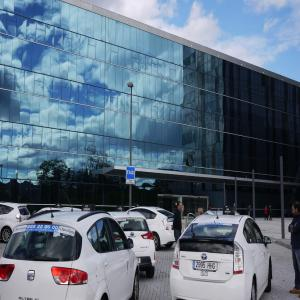Vehicle-registration-plate: (194, 261, 219, 273)
